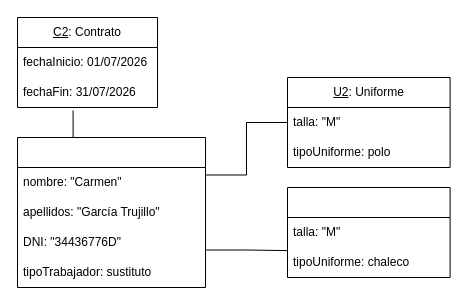
The diagram is 468 pixels wide and 305 high, and some of its shapes have lost their labels. The shapes that lost their labels are listed below. From the top down, each one's box as (x1, y1, x2, y2) in pixels, then its label:
(16, 136, 206, 288): T6 : Trabajador
(286, 186, 450, 278): U3 : Uniforme
